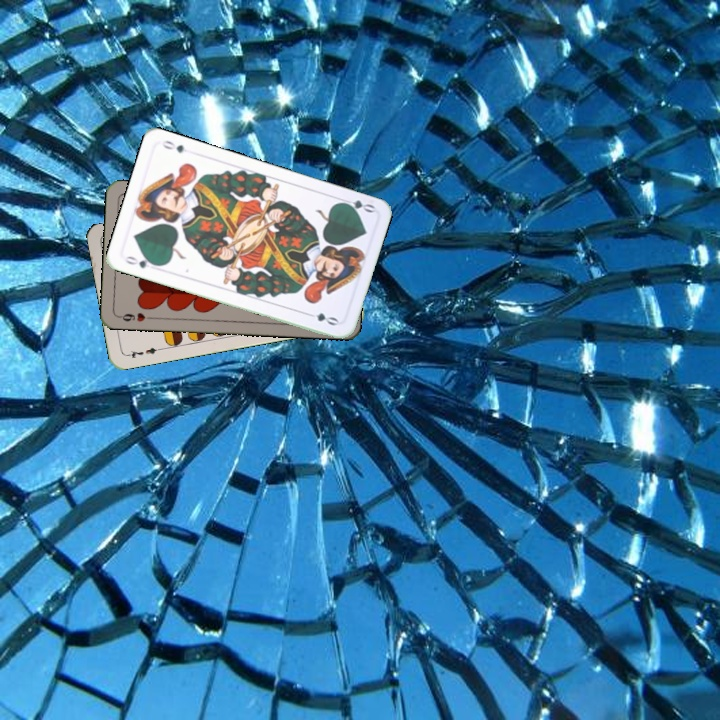E7: (123, 343, 163, 360)
GO: (336, 194, 377, 215), (121, 252, 161, 271)
H9: (115, 309, 156, 324)
